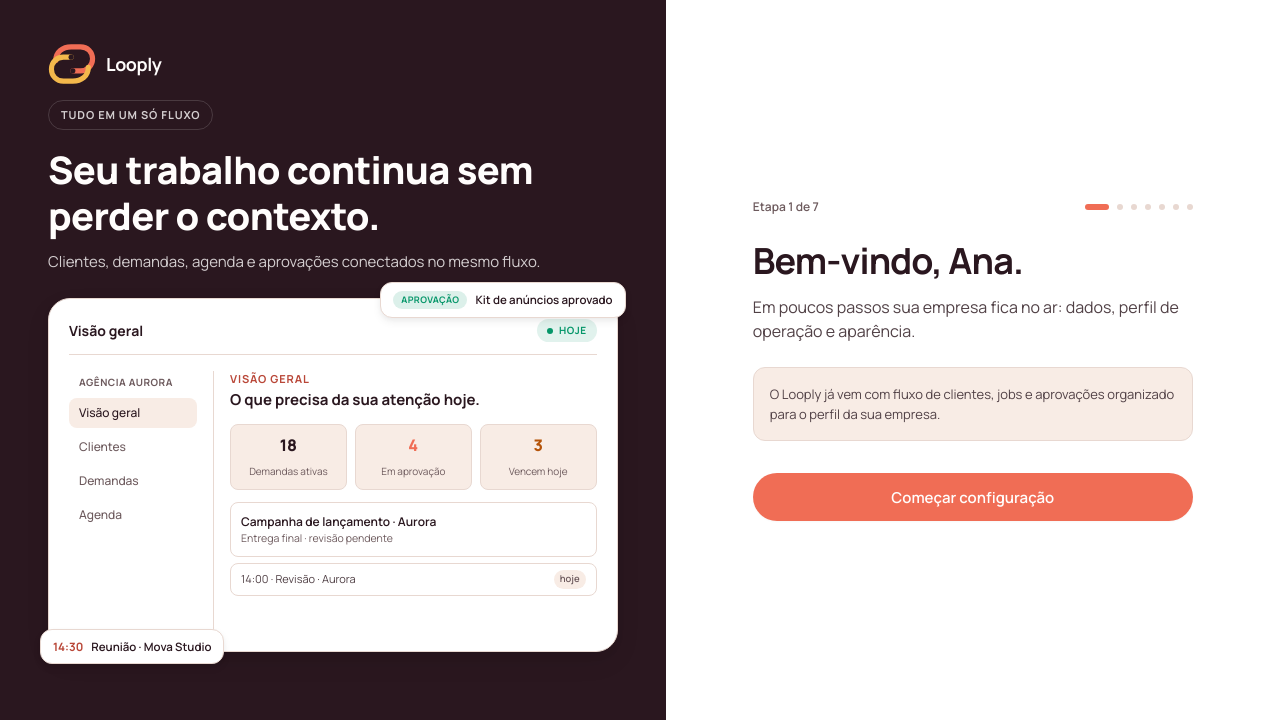
Onboarding › Full 7-step onboarding (when MVP flag disabled) › step 2 requires a company name before advancing
The image size is (1280, 720).
What coordinates should you click on to do the following:
click the button "Começar configuração"
I would click on:
 (973, 497)
Its box is [753, 473, 1193, 521].
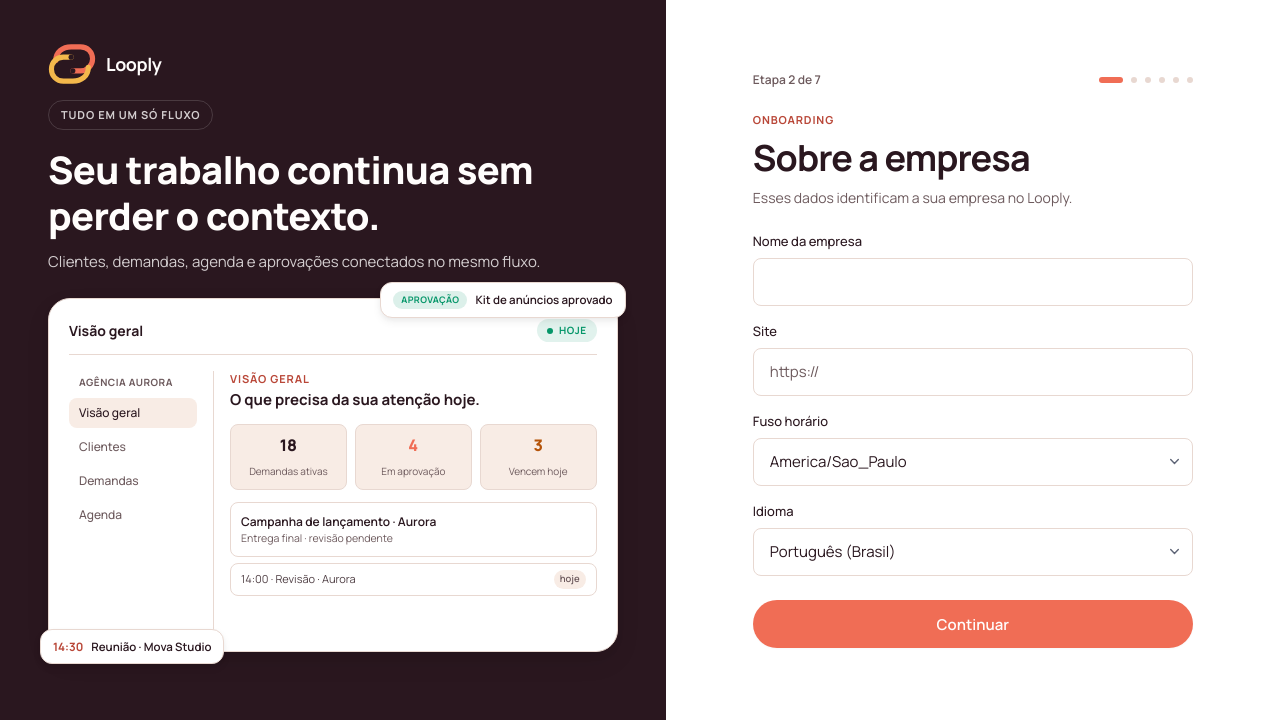
What coordinates should you click on to do the following:
click the button "Continuar"
I would click on:
 (973, 624)
Its box is [753, 600, 1193, 648].
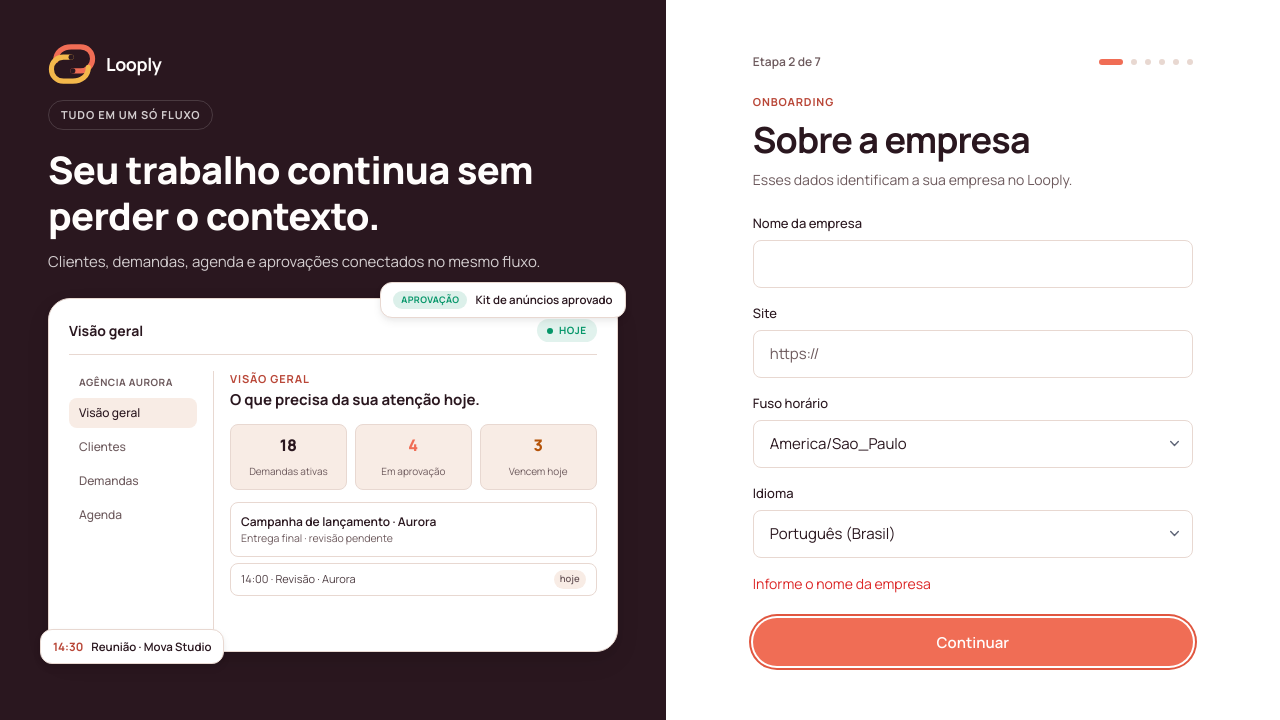
Result: the message reads "Informe o nome da empresa" at [753, 574, 931, 593]
